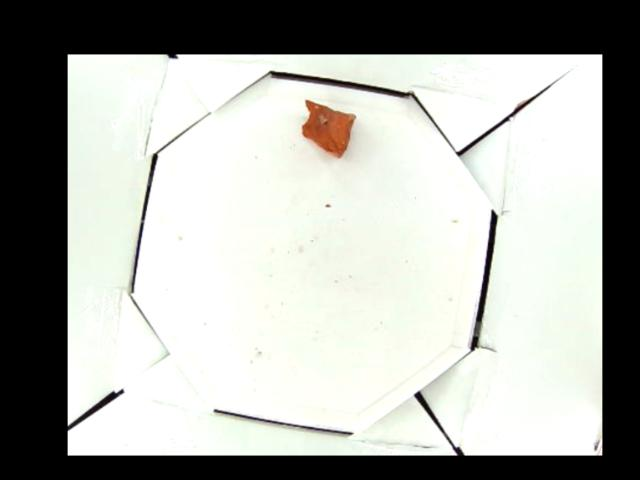Brisk: (301, 99, 355, 156)
